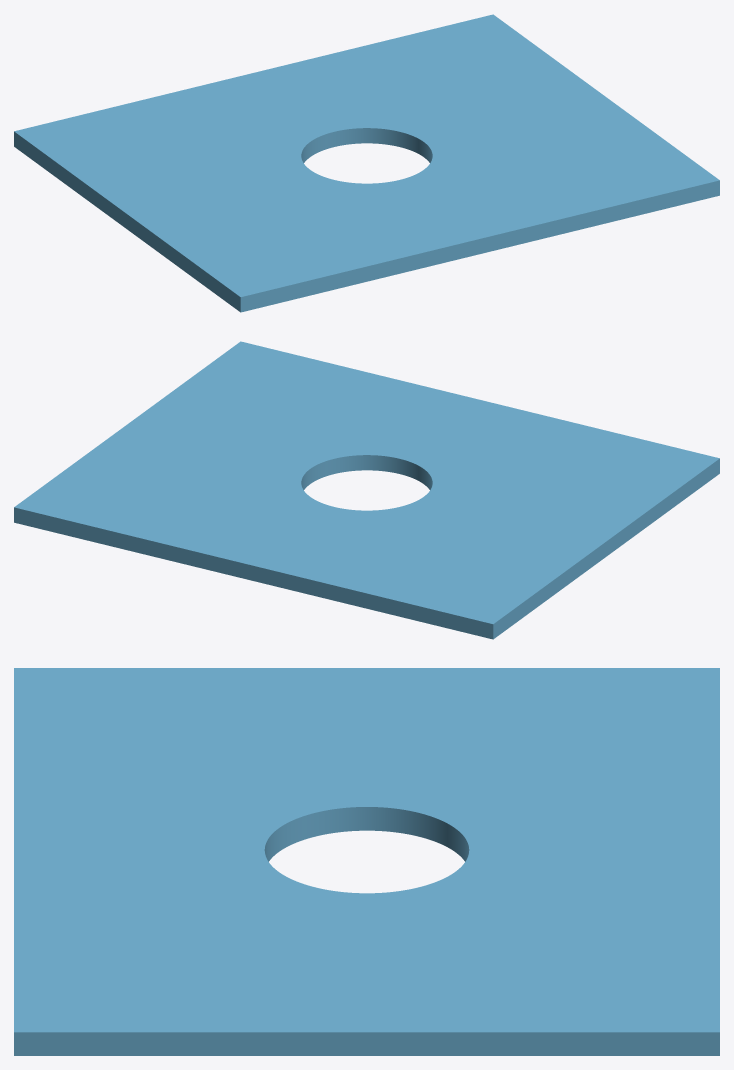
3 renders of one model, top to bottom at view 1: azimuth 30°, elevation 25°; view 2: azimuth 150°, elevation 25°; view 3: azimuth 270°, elevation 25°, orthographic. The views are drawn at different scales.
Parts seen in each view (by area): view 1: G03_body; view 2: G03_body; view 3: G03_body.
Part boxes in pixels (x1,y1,x2,y2): G03_body: (14, 14, 719, 312); G03_body: (14, 341, 719, 639); G03_body: (14, 668, 719, 1055).
Bounding box in the file's own units: 98.21 × 2.99 × 80.47.
